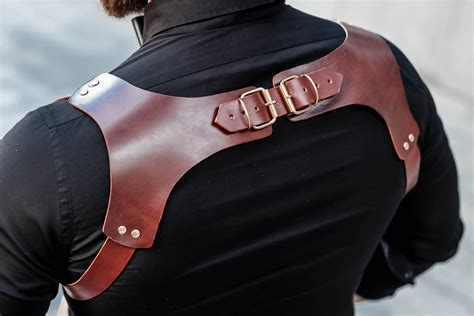cuero: (67, 19, 422, 301)
